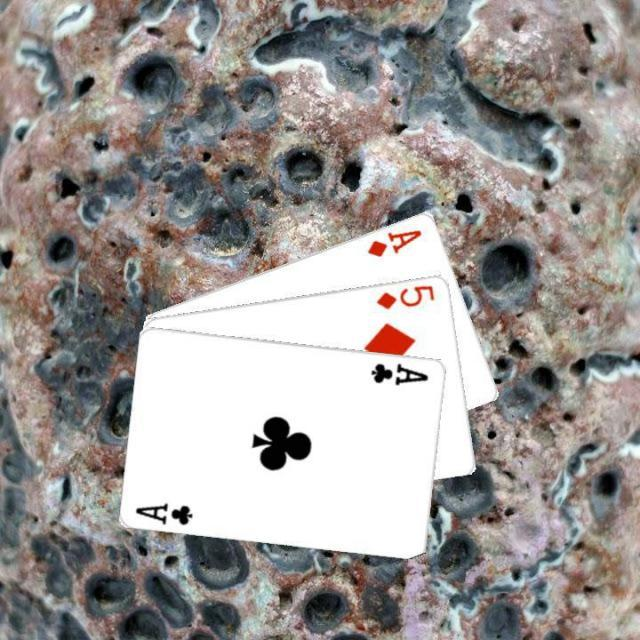5D: (373, 280, 437, 311)
AC: (133, 498, 196, 526), (368, 358, 430, 386)
AD: (364, 225, 424, 259)
